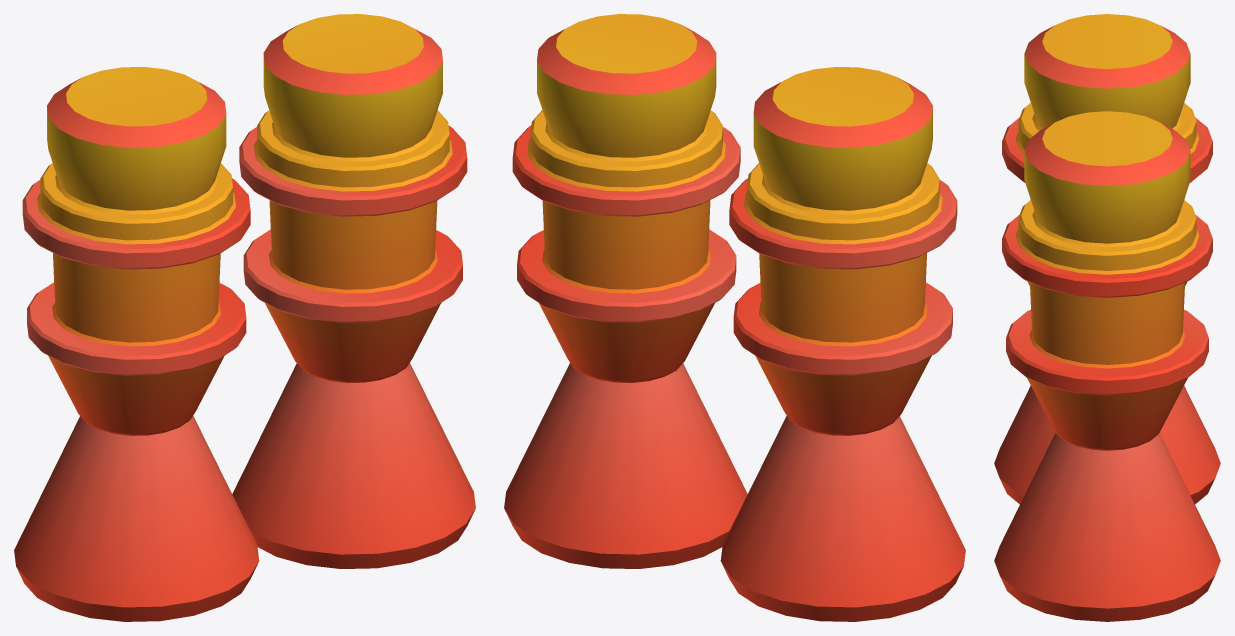
The model's file is Jet_V4.fbx.
3 renders of one model, left to right at view 1: azimuth 30°, elevation 25°; view 2: azimuth 150°, elevation 25°; view 3: azimuth 270°, elevation 25°, orthographic. The views are drawn at different scales.
Parts seen in each view (by area): view 1: Jet_V4_L, Jet_V4_R; view 2: Jet_V4_L, Jet_V4_R; view 3: Jet_V4_R, Jet_V4_L.
Boxes of the visible parts, bbox=[...] form: Jet_V4_L: bbox=[14, 67, 259, 621]; Jet_V4_R: bbox=[232, 14, 475, 568]; Jet_V4_L: bbox=[720, 67, 965, 621]; Jet_V4_R: bbox=[504, 14, 747, 568]; Jet_V4_R: bbox=[994, 111, 1220, 621]; Jet_V4_L: bbox=[994, 14, 1220, 504].
Size of the model in its own units: 128 by 135 by 63.37.
